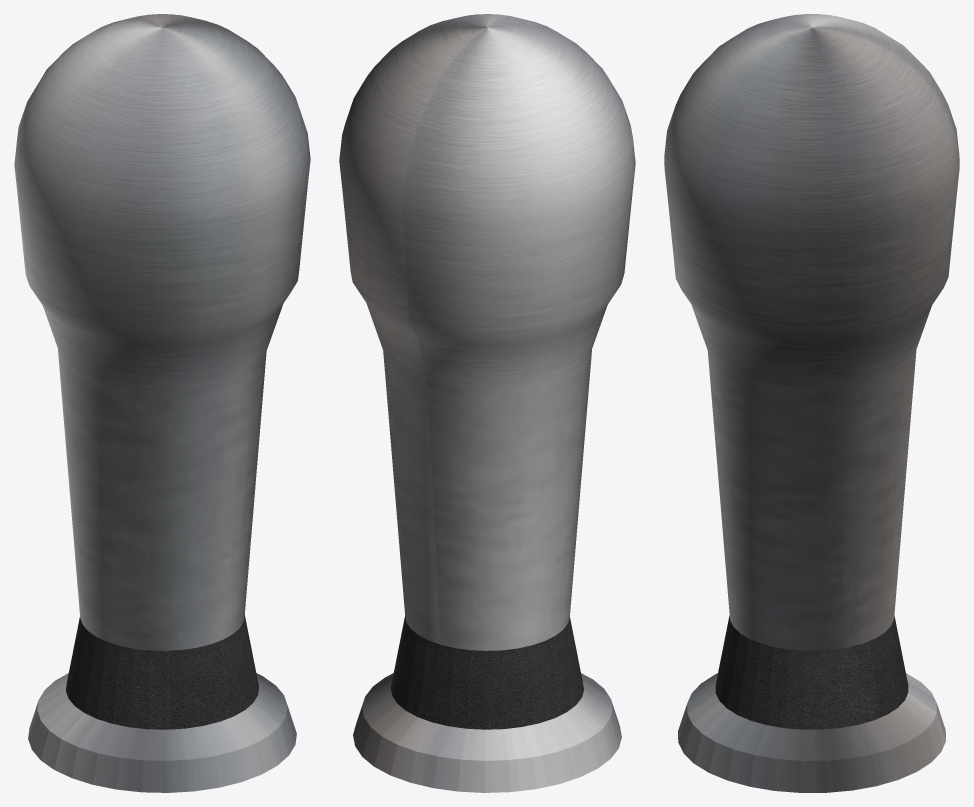
File: red stamp.FBX
3 views of the same model, side by side, from view 1: azimuth 30°, elevation 25°; view 2: azimuth 150°, elevation 25°; view 3: azimuth 270°, elevation 25° (orthographic).
Visible parts, largest first — view 1: Sphere036; view 2: Sphere036; view 3: Sphere036.
Boxes of the visible parts, bbox=[...] form: Sphere036: bbox=[14, 14, 310, 792]; Sphere036: bbox=[339, 14, 635, 792]; Sphere036: bbox=[664, 14, 959, 792].
Bounding box in the file's own units: 9.91 × 26.21 × 9.91.
Materials: 2 (2 with a texture image).
